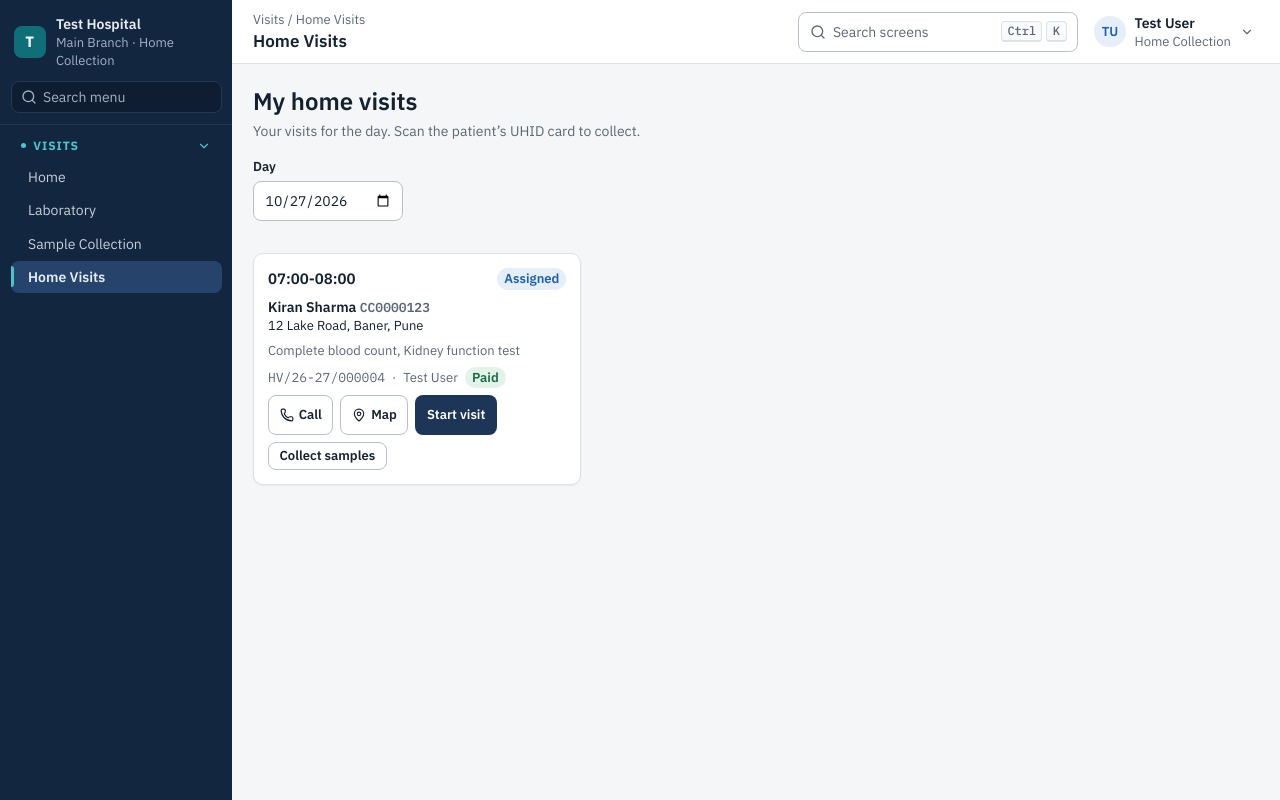
Test: Home visits › lets the phlebotomist start the visit and collect after the UHID scan
The width and height of the screenshot is (1280, 800).
Expected: the heading "My home visits" is shown, [253, 85, 418, 117]
Expected: the text "12 Lake Road, Baner, Pune" is shown, [268, 317, 424, 334]
Step 1. Click the button "Start visit" → (456, 415), box [415, 395, 497, 435]
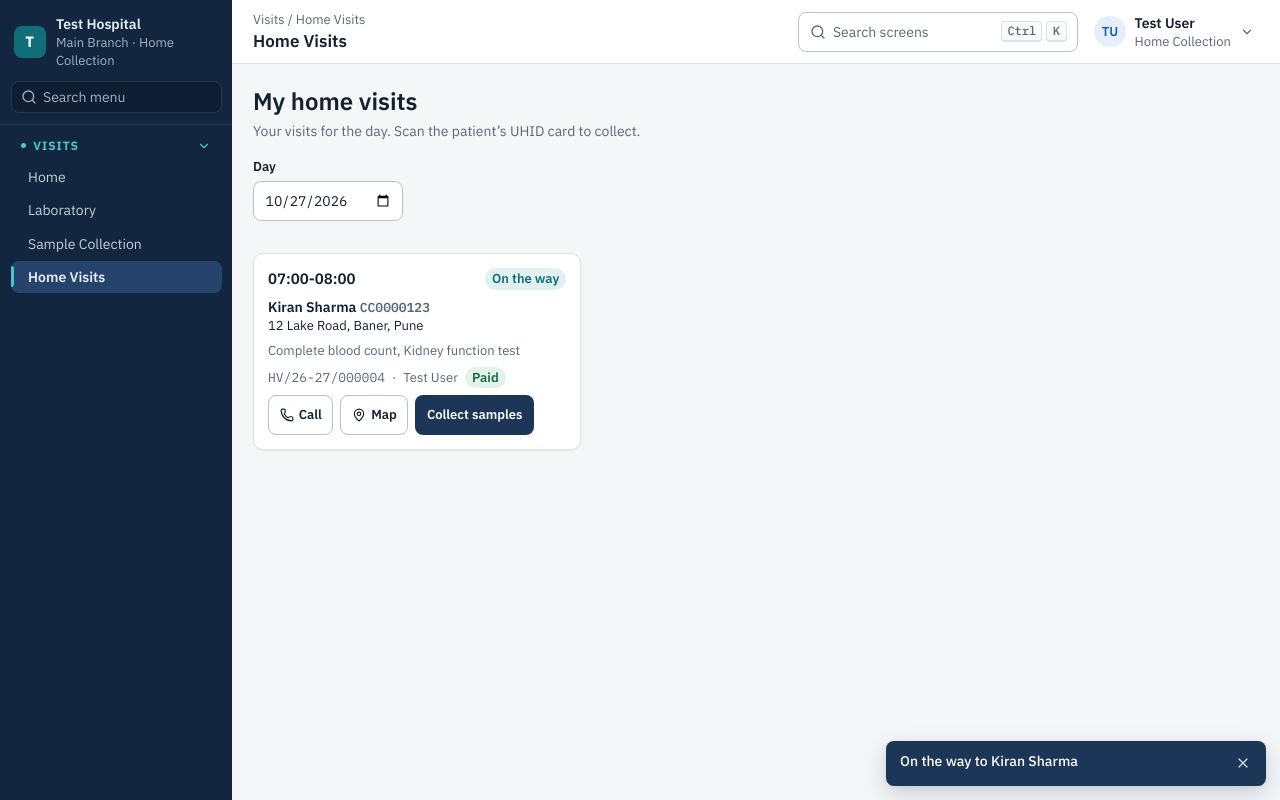
Now the text "On the way" is shown, box [492, 270, 559, 288]
Step 2. Click the button "Collect samples" → (475, 415), box [415, 395, 534, 435]
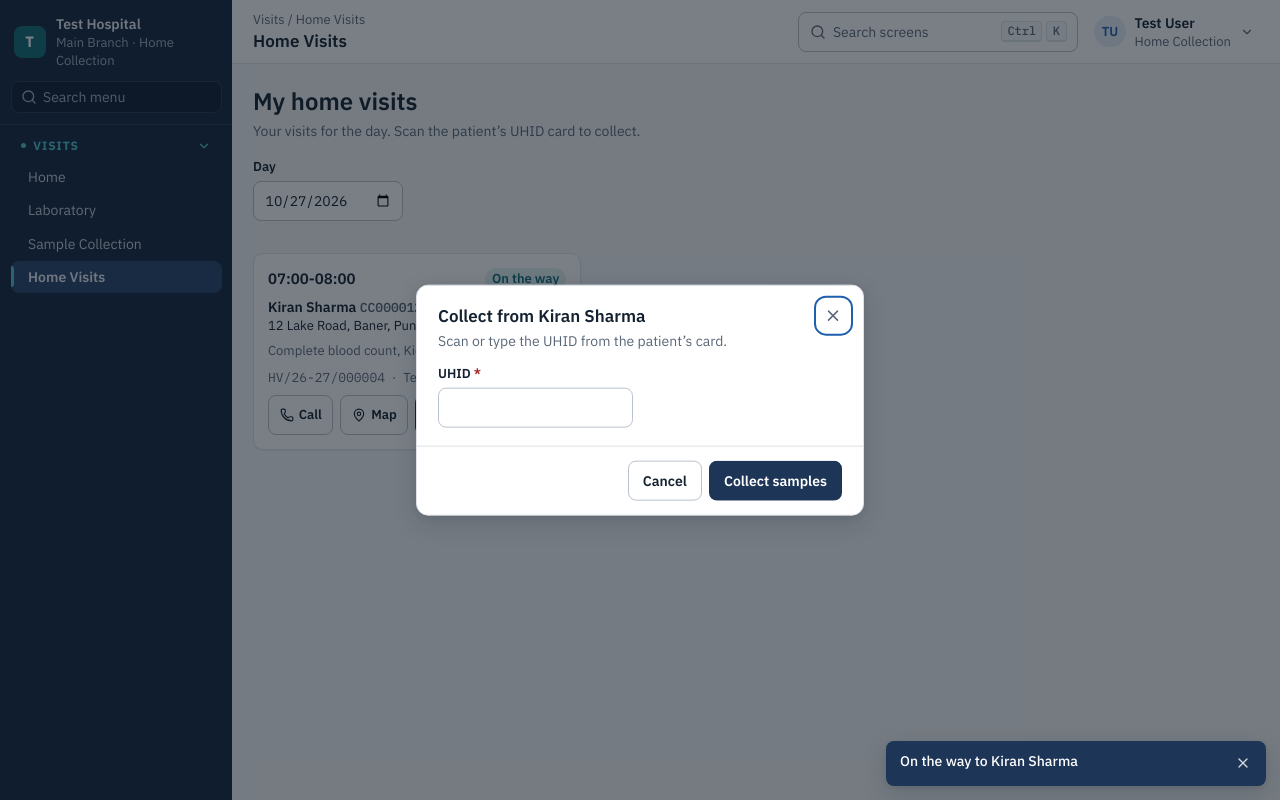
Step 3. Type "CC0000123" into the field labelled "UHID *" → (536, 408), box [438, 388, 633, 428]
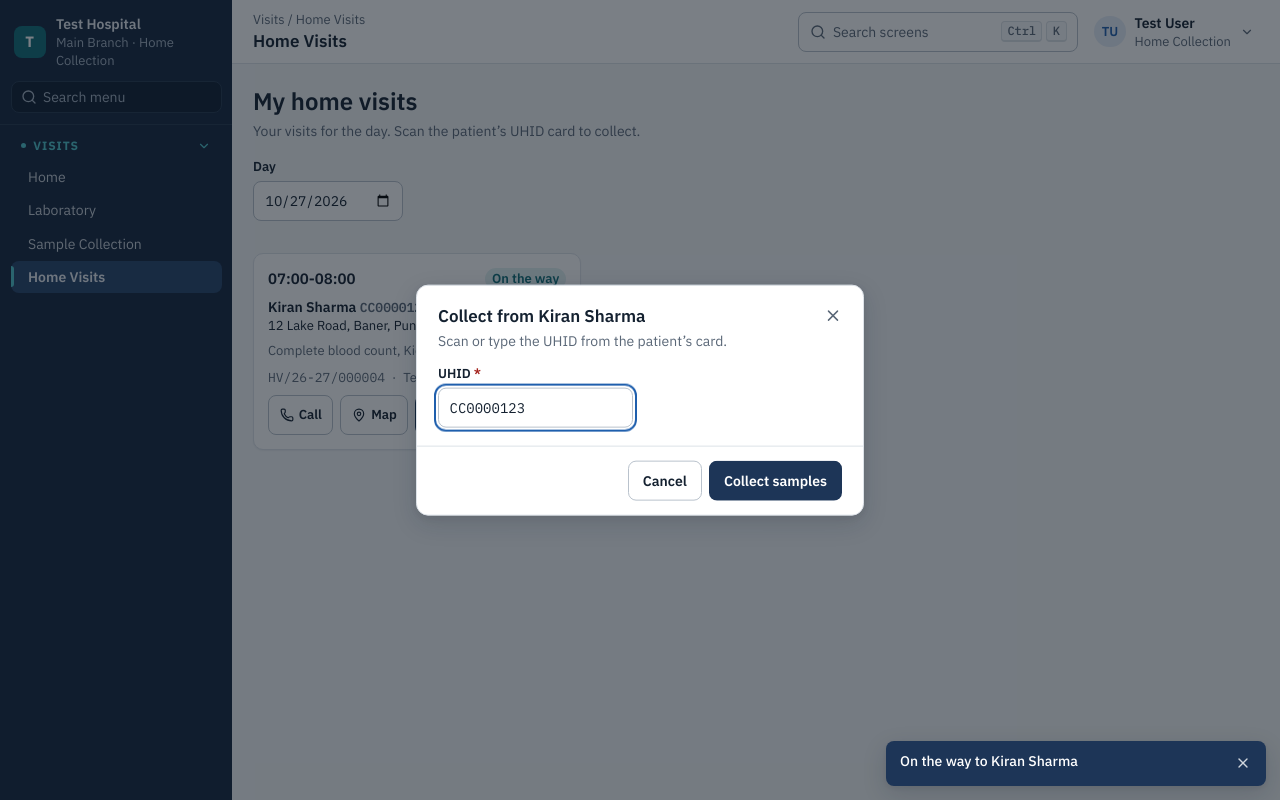
Step 4. Click the button "Collect samples" → (775, 480), box [709, 460, 842, 500]
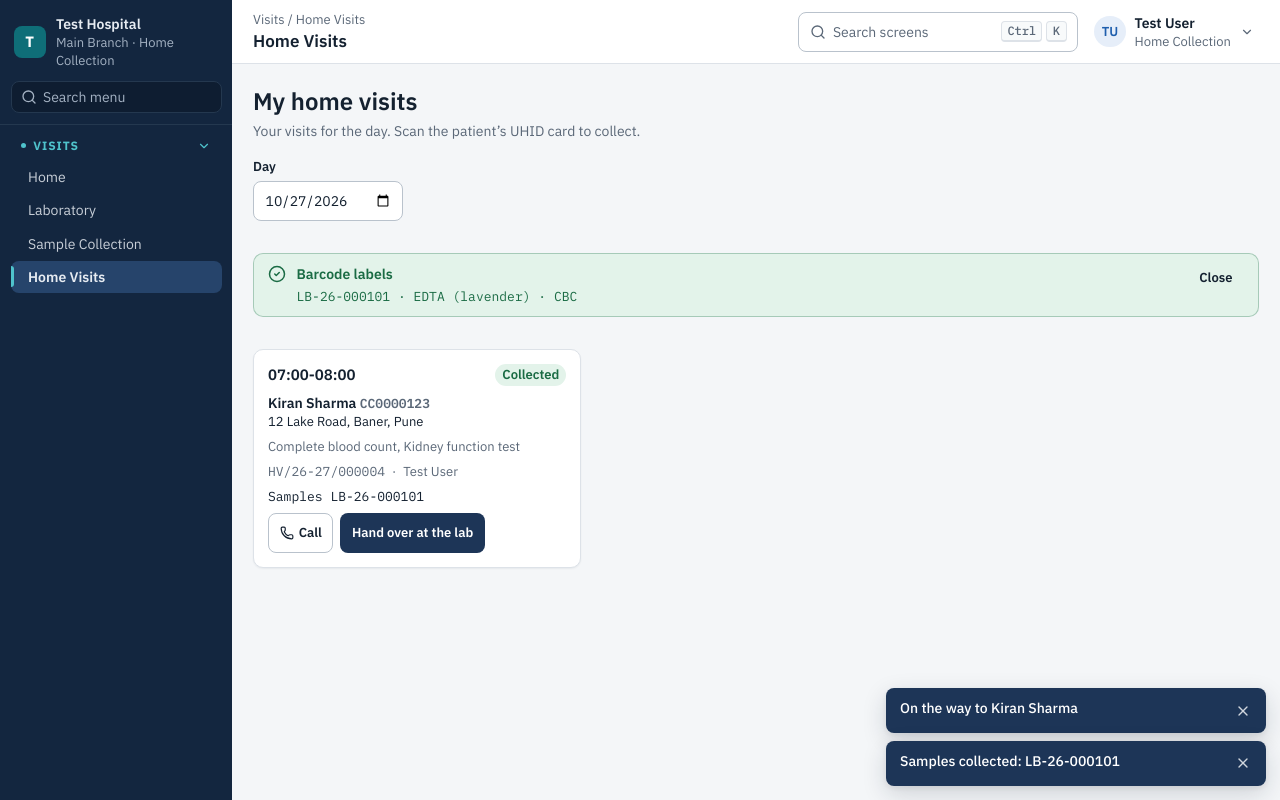
Now the list item "LB-26-000101 · EDTA (lavender) · CBC" is shown, box [296, 288, 577, 305]
